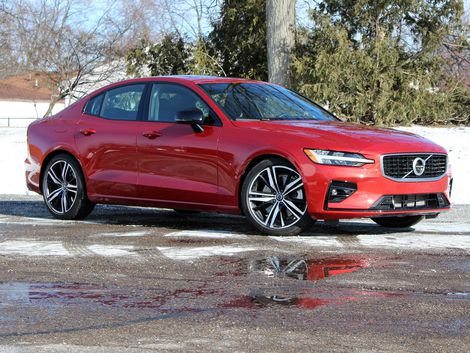car: (25, 76, 452, 238)
